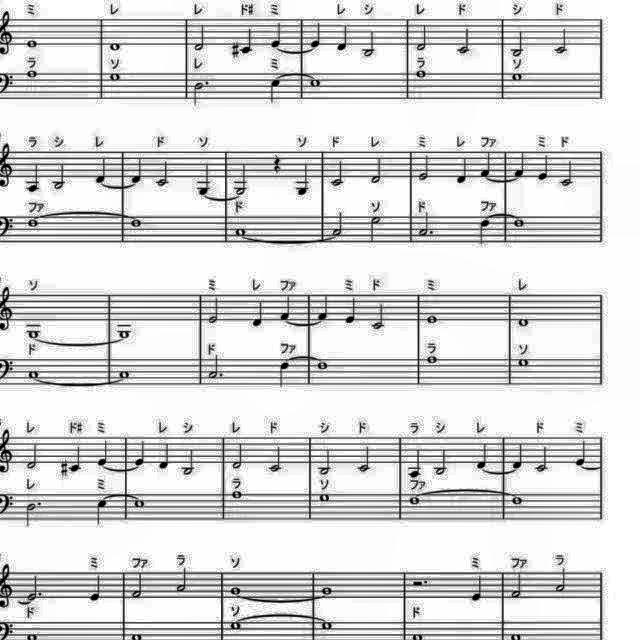Diez: (230, 38, 242, 60), (58, 458, 70, 478)
Full-note: (23, 216, 45, 232), (26, 323, 44, 341), (318, 618, 336, 634), (114, 324, 132, 340), (106, 38, 122, 54), (510, 492, 526, 508), (132, 494, 148, 510), (318, 585, 336, 599), (21, 66, 39, 80), (23, 36, 41, 50), (127, 215, 145, 229), (106, 70, 124, 84), (314, 359, 331, 373), (115, 366, 132, 380), (228, 585, 244, 599), (512, 215, 528, 229), (516, 355, 532, 369), (408, 493, 424, 507), (308, 75, 324, 89), (229, 619, 245, 633), (234, 225, 250, 238), (516, 316, 532, 328), (424, 314, 440, 326), (414, 68, 430, 80), (316, 492, 332, 504), (424, 354, 440, 366), (230, 490, 246, 502), (24, 369, 40, 381), (511, 70, 525, 82)
Half-dot: (24, 572, 48, 604), (23, 500, 44, 530), (206, 352, 226, 381), (418, 210, 434, 240)
Half-note: (232, 160, 252, 194), (552, 24, 572, 56), (190, 79, 210, 109), (355, 444, 373, 476), (24, 442, 42, 474), (359, 29, 377, 60), (510, 28, 528, 58), (558, 161, 576, 191), (369, 304, 387, 334), (532, 444, 550, 474), (51, 163, 69, 193), (267, 445, 285, 475), (433, 447, 451, 477), (316, 447, 334, 477), (455, 26, 473, 56), (330, 159, 348, 189), (155, 159, 173, 189), (130, 570, 148, 600), (206, 292, 222, 324), (368, 158, 384, 190), (180, 447, 197, 477), (554, 566, 570, 596), (415, 23, 431, 53), (331, 208, 347, 238), (366, 215, 382, 245), (192, 23, 208, 53), (508, 570, 524, 600), (232, 444, 248, 474), (177, 566, 193, 594), (416, 154, 432, 182), (268, 77, 284, 105)
Half-rest: (411, 574, 434, 590)
Quarter-note: (294, 161, 314, 197), (194, 162, 213, 198), (24, 160, 44, 194), (407, 446, 425, 479), (88, 572, 105, 604), (268, 21, 286, 51), (240, 25, 256, 57), (336, 22, 352, 54), (468, 572, 484, 604), (158, 442, 174, 473), (454, 156, 470, 187), (132, 438, 148, 469), (95, 438, 111, 468), (68, 445, 84, 475), (250, 299, 266, 329), (315, 293, 331, 323), (475, 441, 491, 471), (308, 20, 324, 50), (130, 157, 146, 187), (278, 291, 294, 321), (512, 150, 528, 180), (92, 496, 108, 526), (276, 359, 292, 389), (477, 218, 493, 248), (534, 154, 550, 183), (572, 438, 588, 467), (511, 442, 527, 471), (94, 156, 110, 184), (344, 294, 358, 324), (480, 148, 494, 178)
Quarter-rest: (271, 152, 285, 175)
